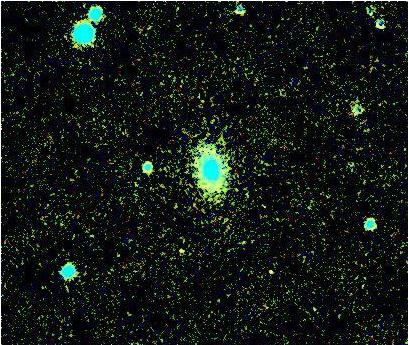star: (164, 240, 194, 270)
